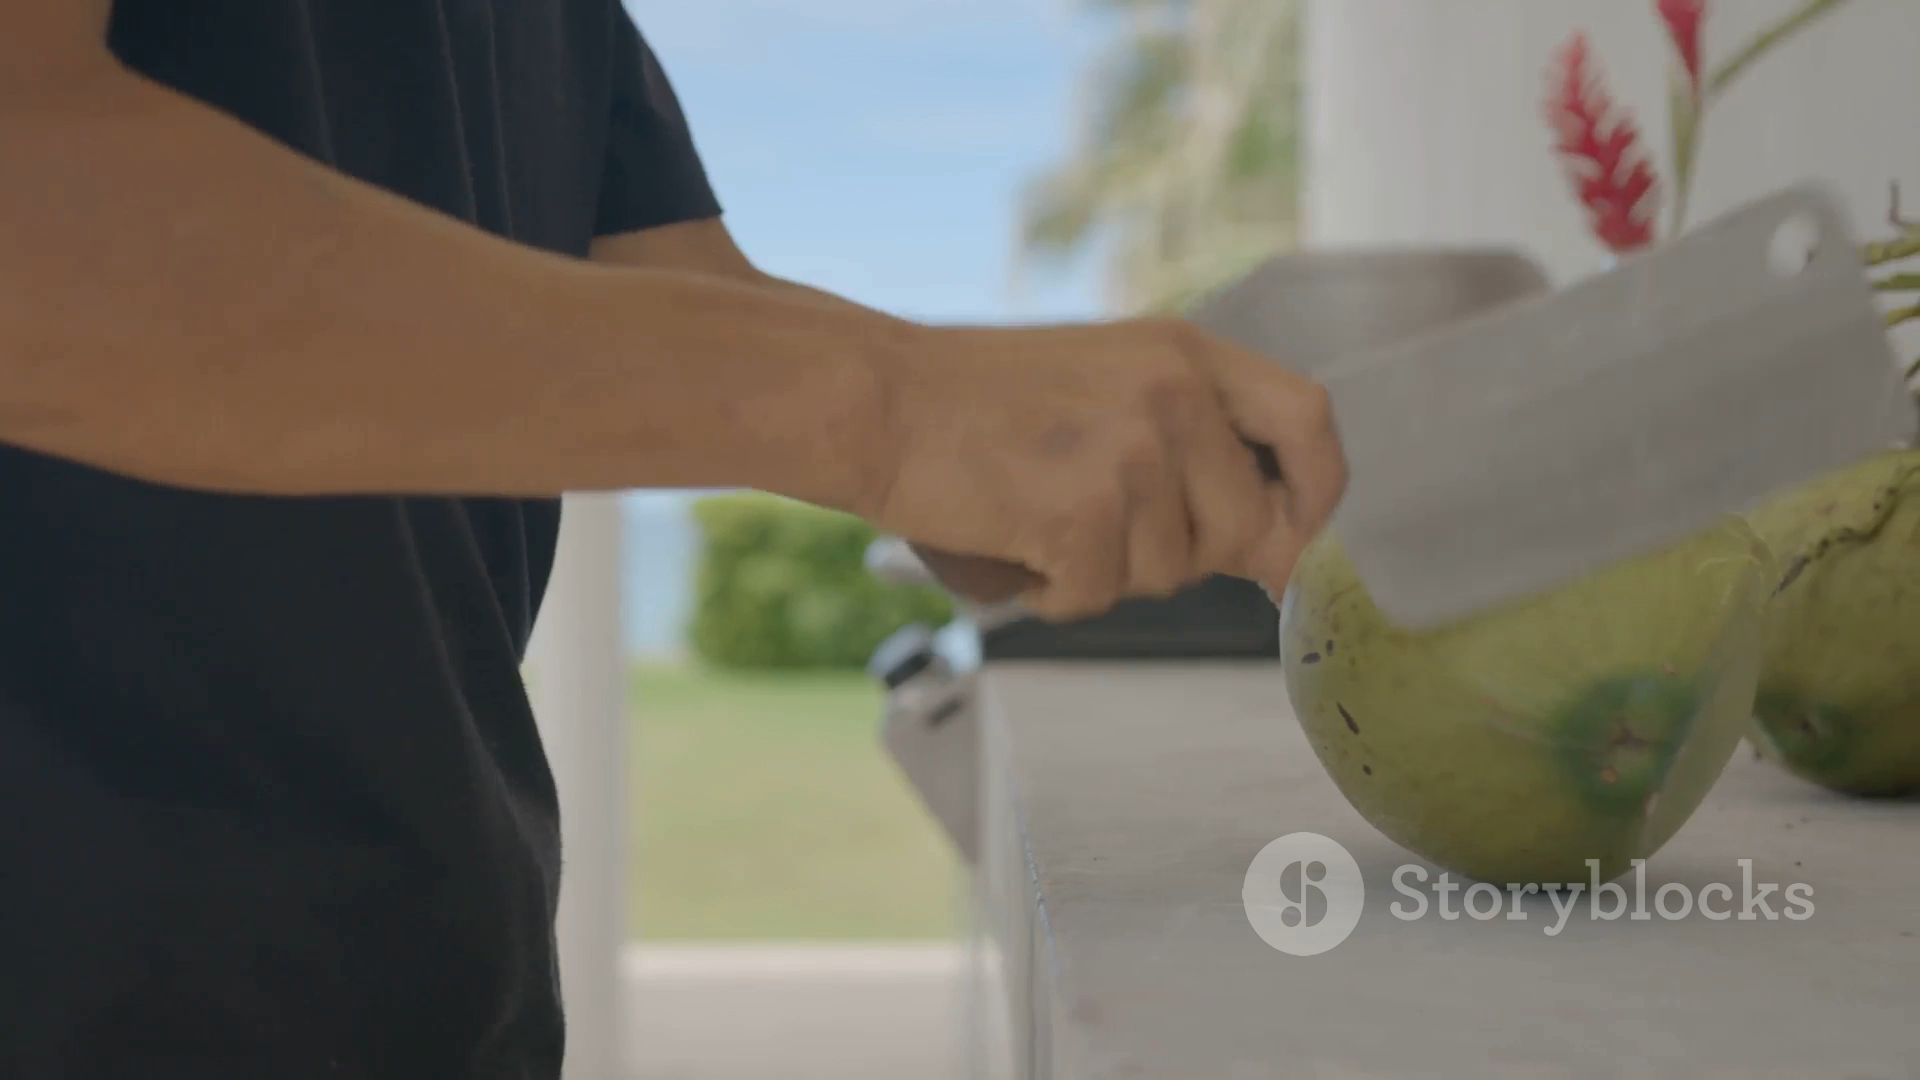cortante: (1296, 183, 1920, 637)
